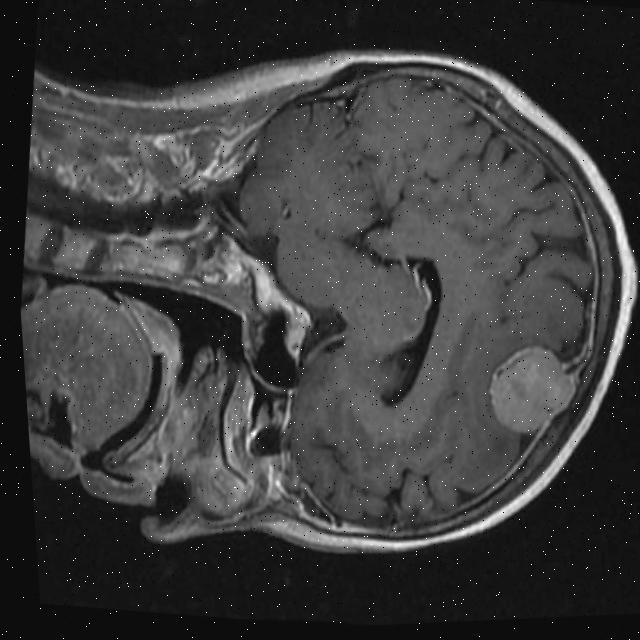Meningioma: (476, 337, 583, 441)
